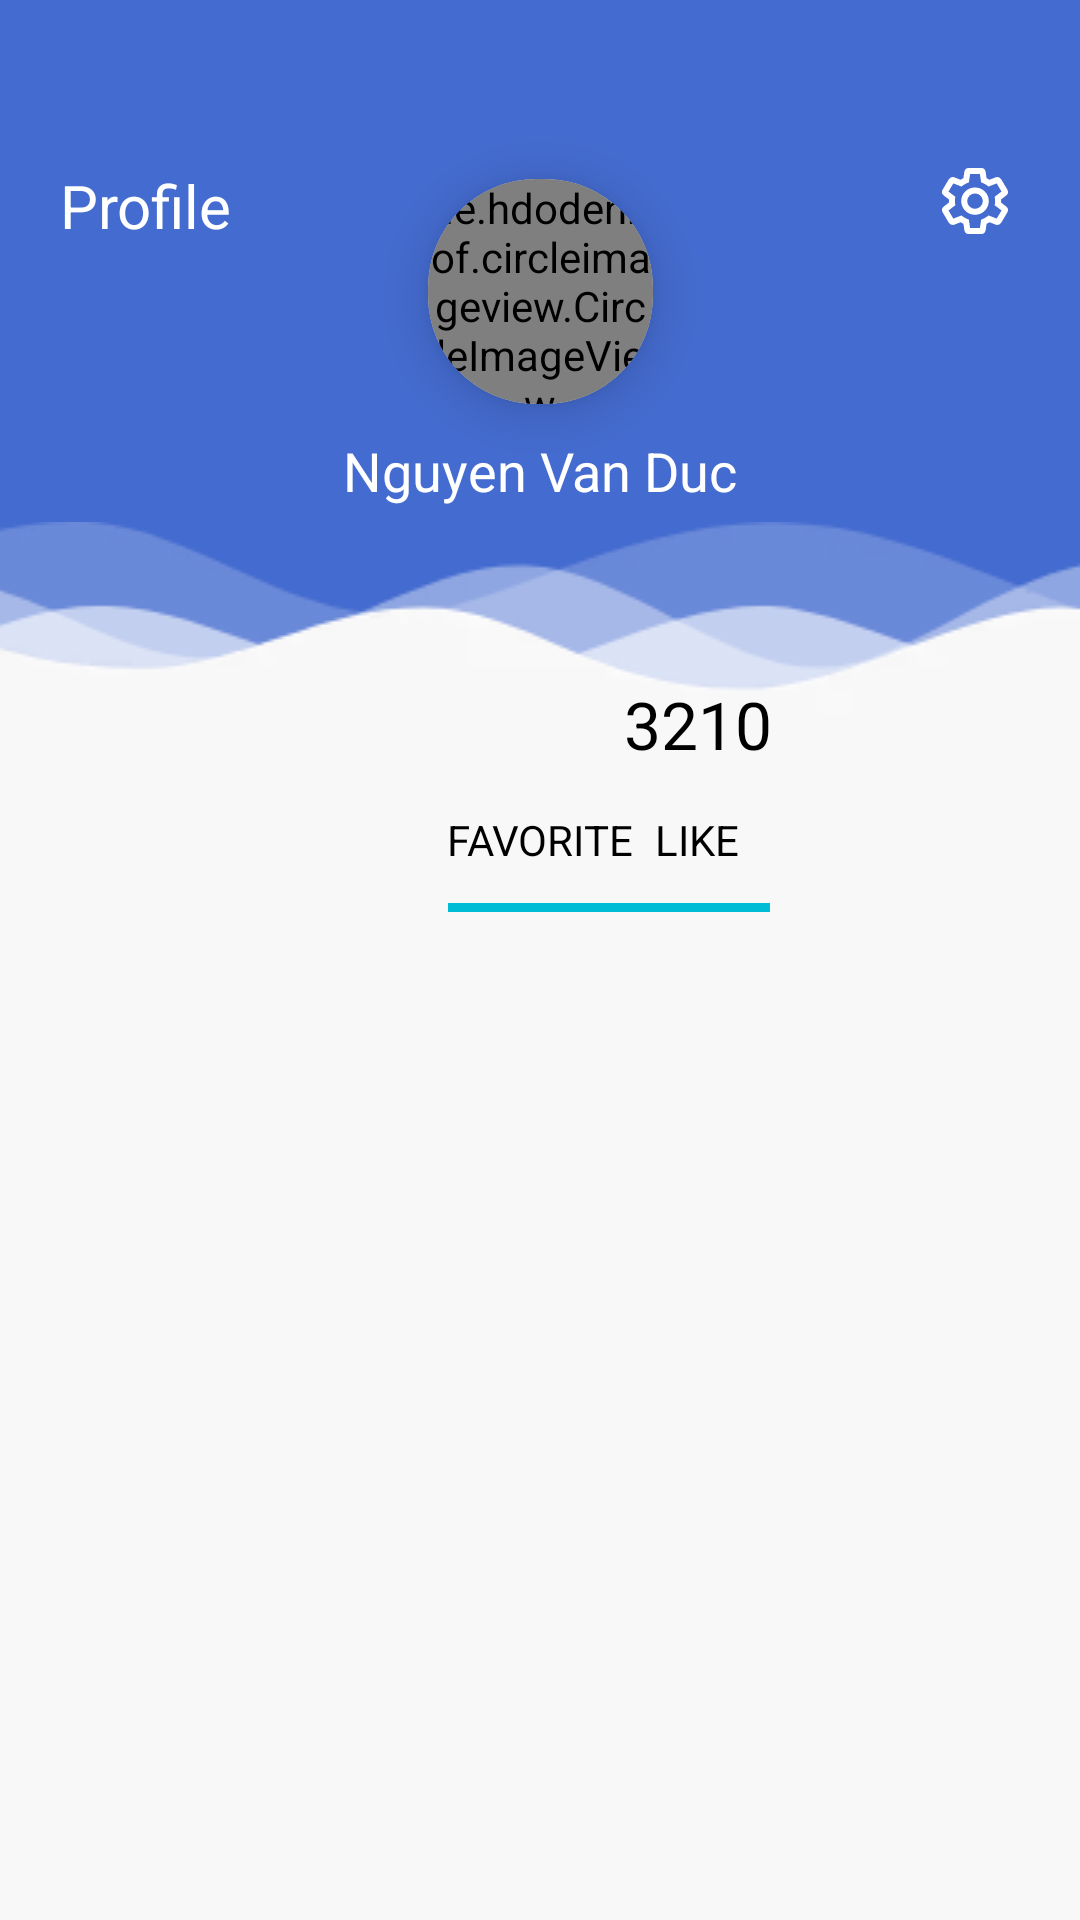

Icon bounding boxes for this 1080×1920 phone screenshot, format (x1, y1, x2, y2):
setting: (942, 168, 1008, 234)
